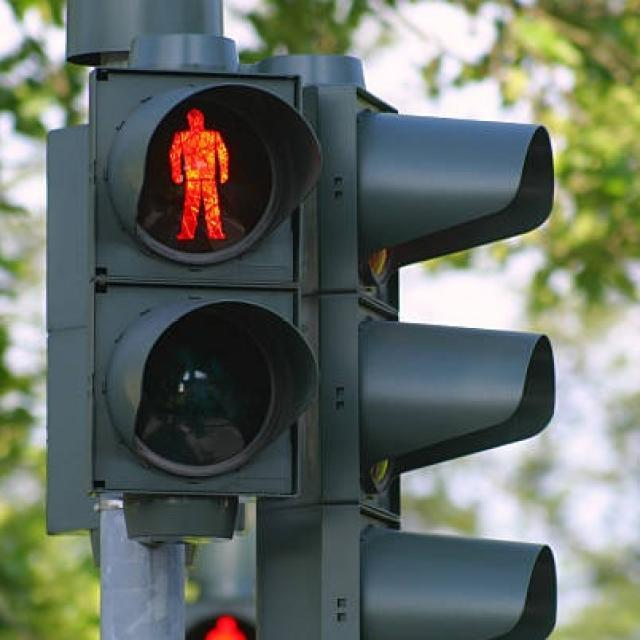red_light: (156, 90, 242, 252)
